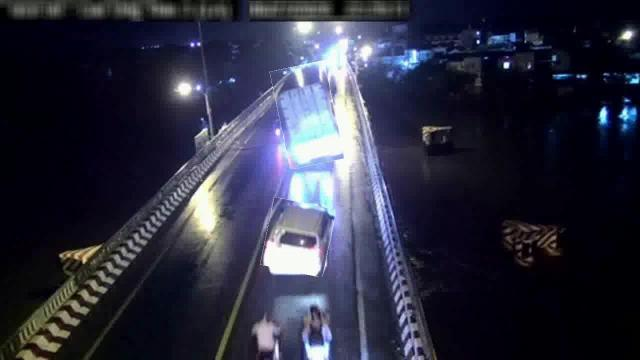Car: (264, 200, 332, 276)
Truck: (274, 63, 340, 167)
